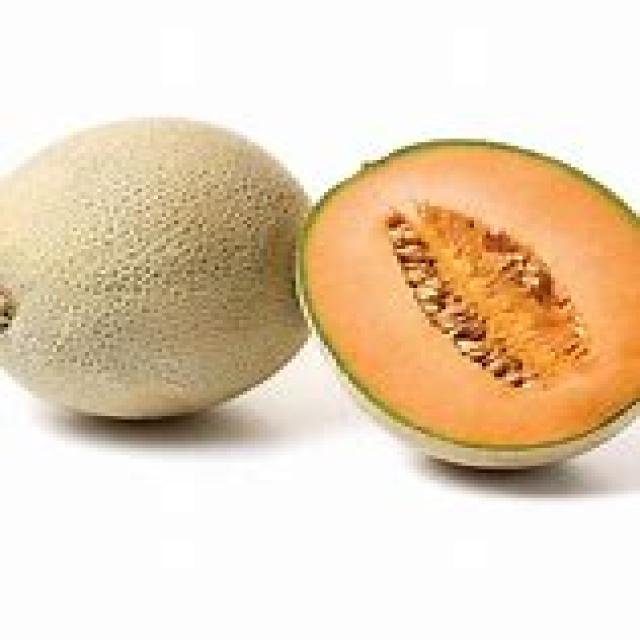cantaloupe: (297, 136, 640, 470), (0, 113, 298, 420)
